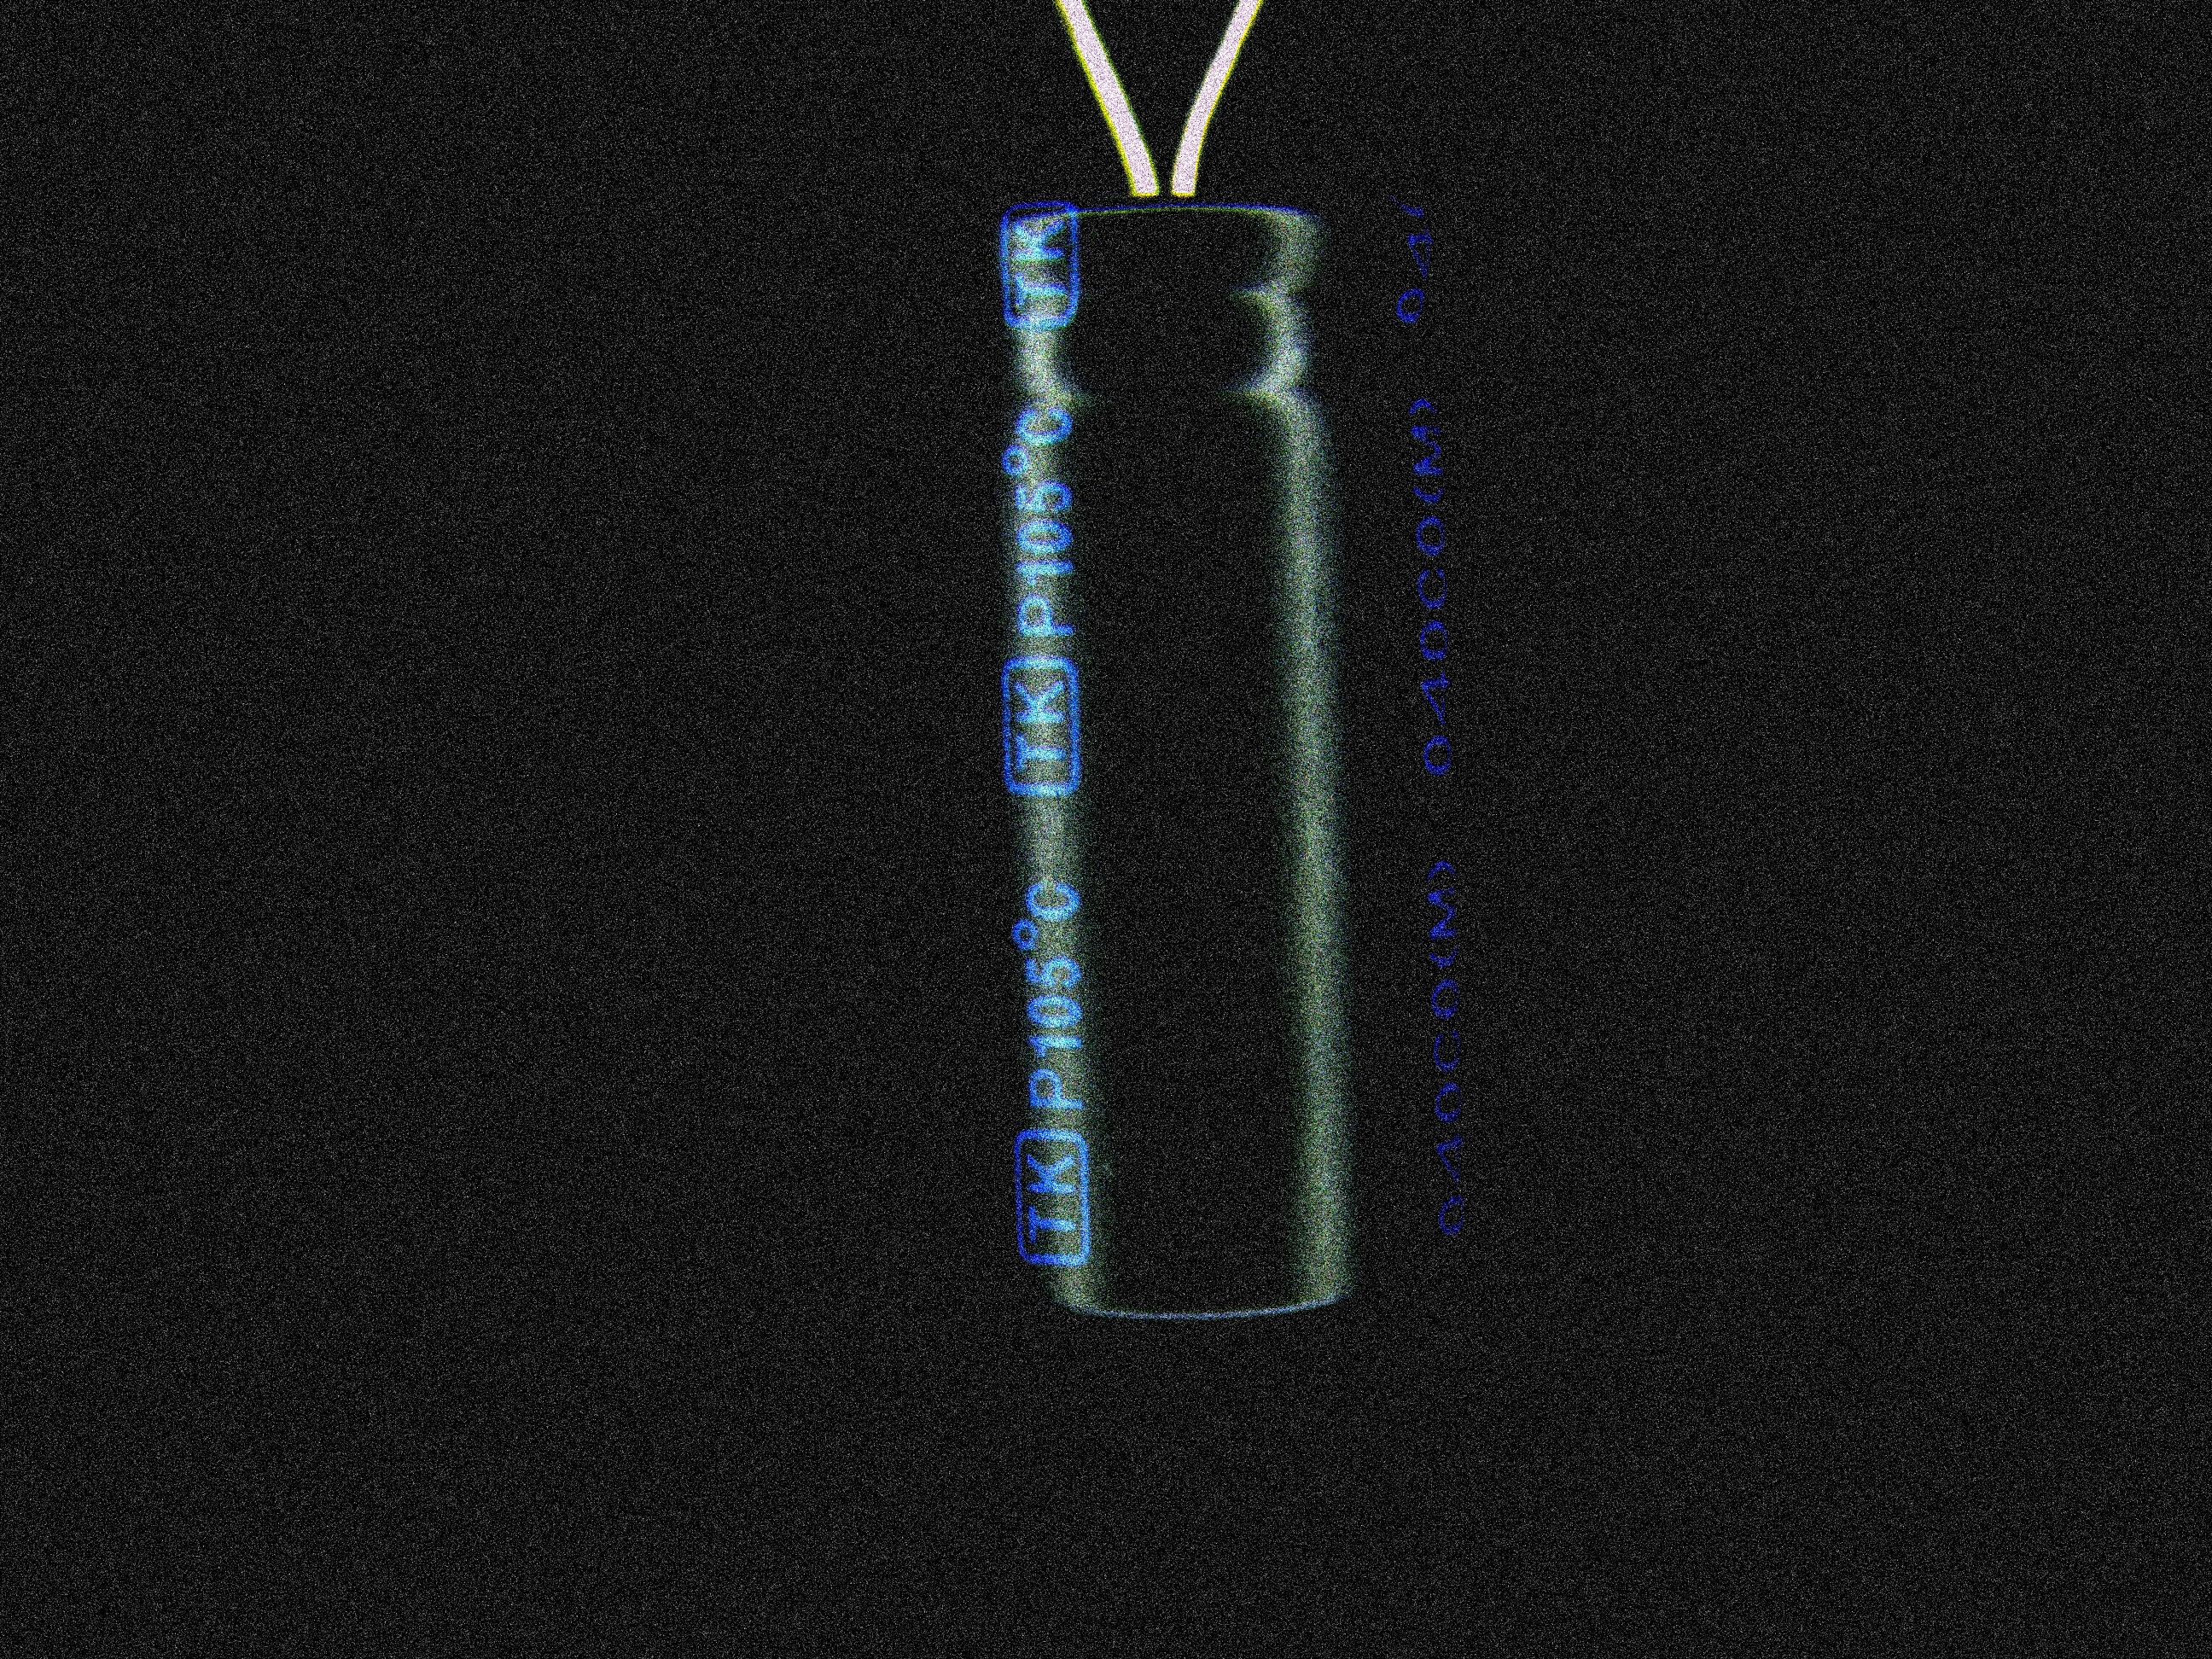c2: (899, 91, 1494, 1333)
